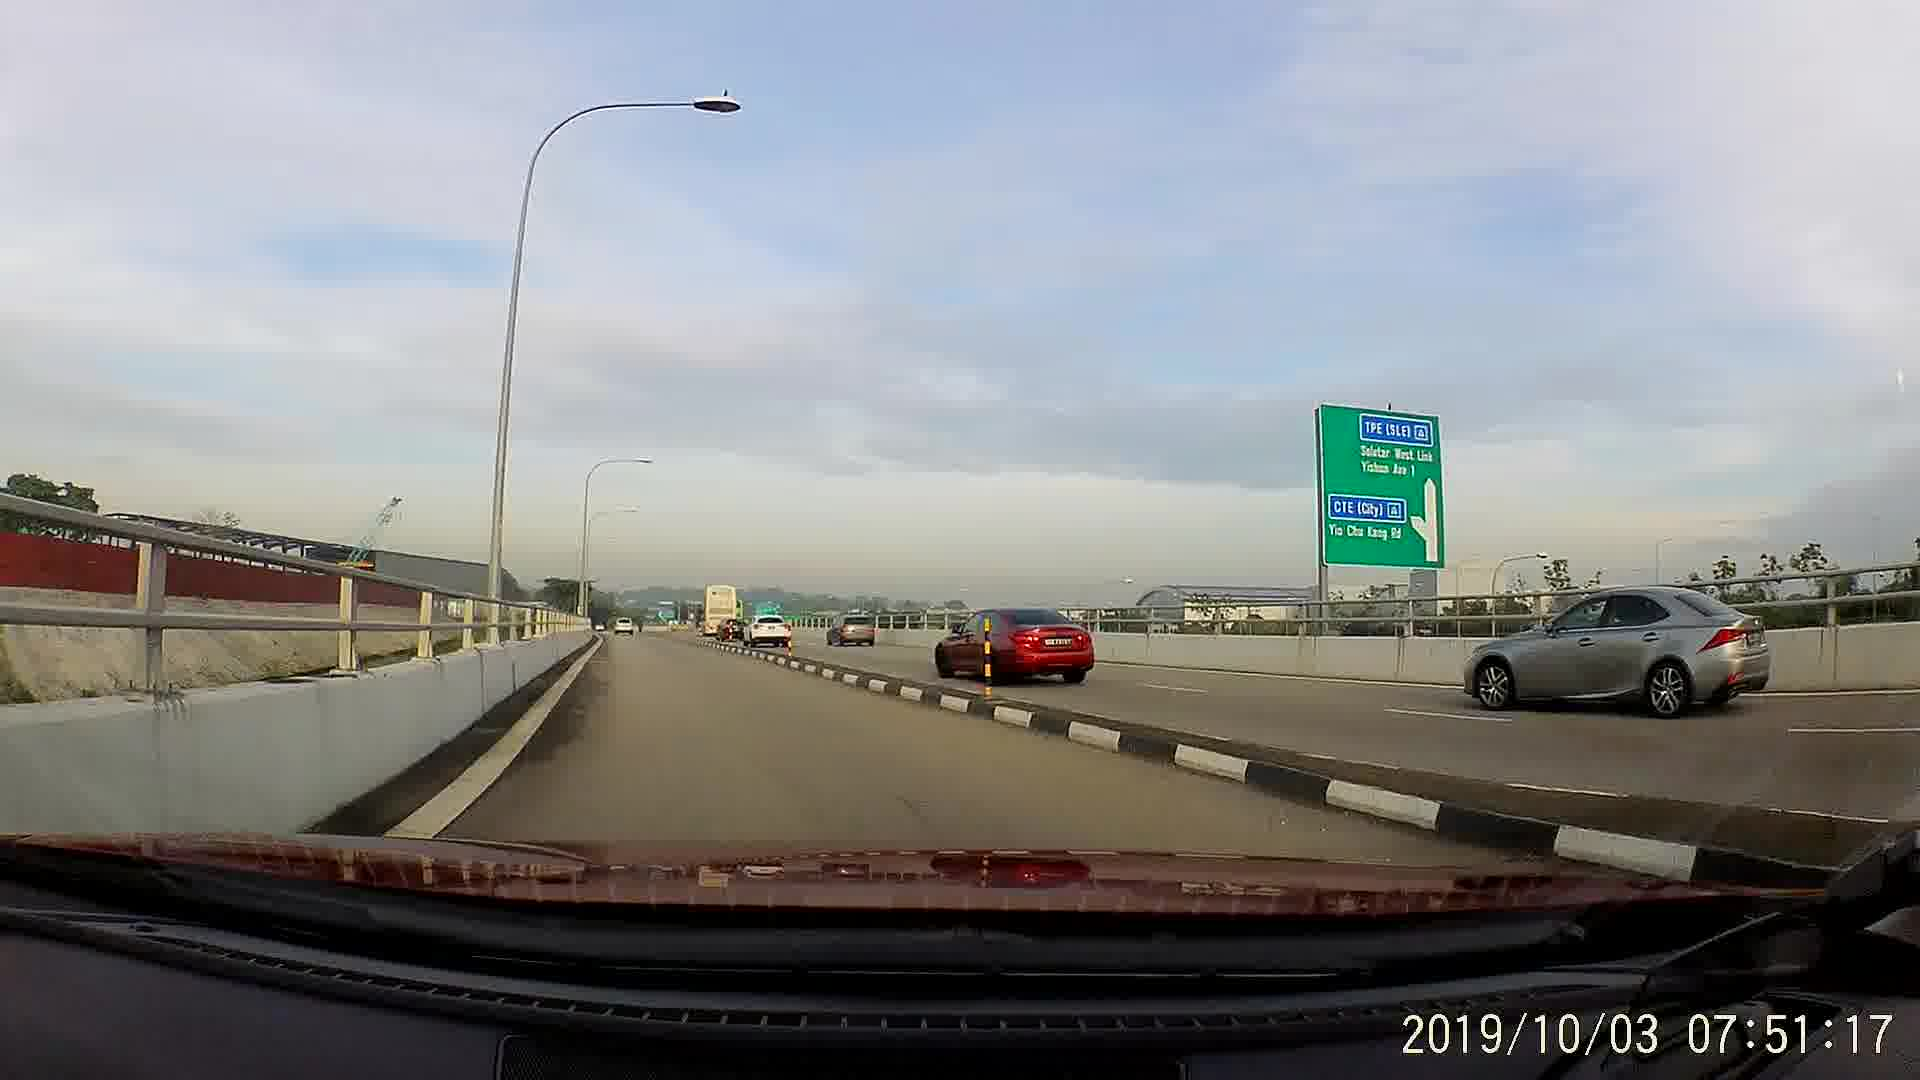bus: (695, 583, 738, 637)
car: (1466, 579, 1767, 716), (938, 607, 1093, 684), (823, 608, 876, 649), (746, 618, 789, 647), (611, 617, 633, 636)
